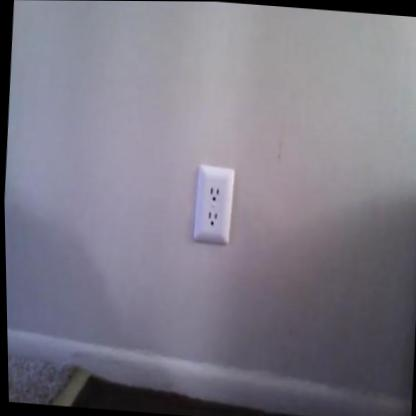OUTLET: (192, 164, 237, 246)
